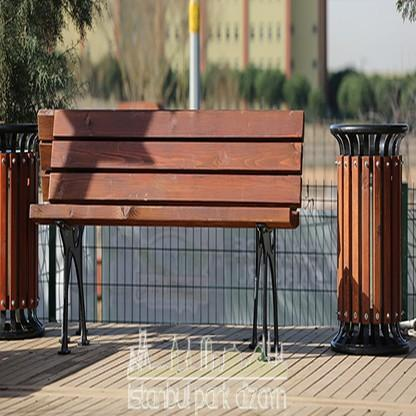obstacle: (24, 100, 319, 331)
